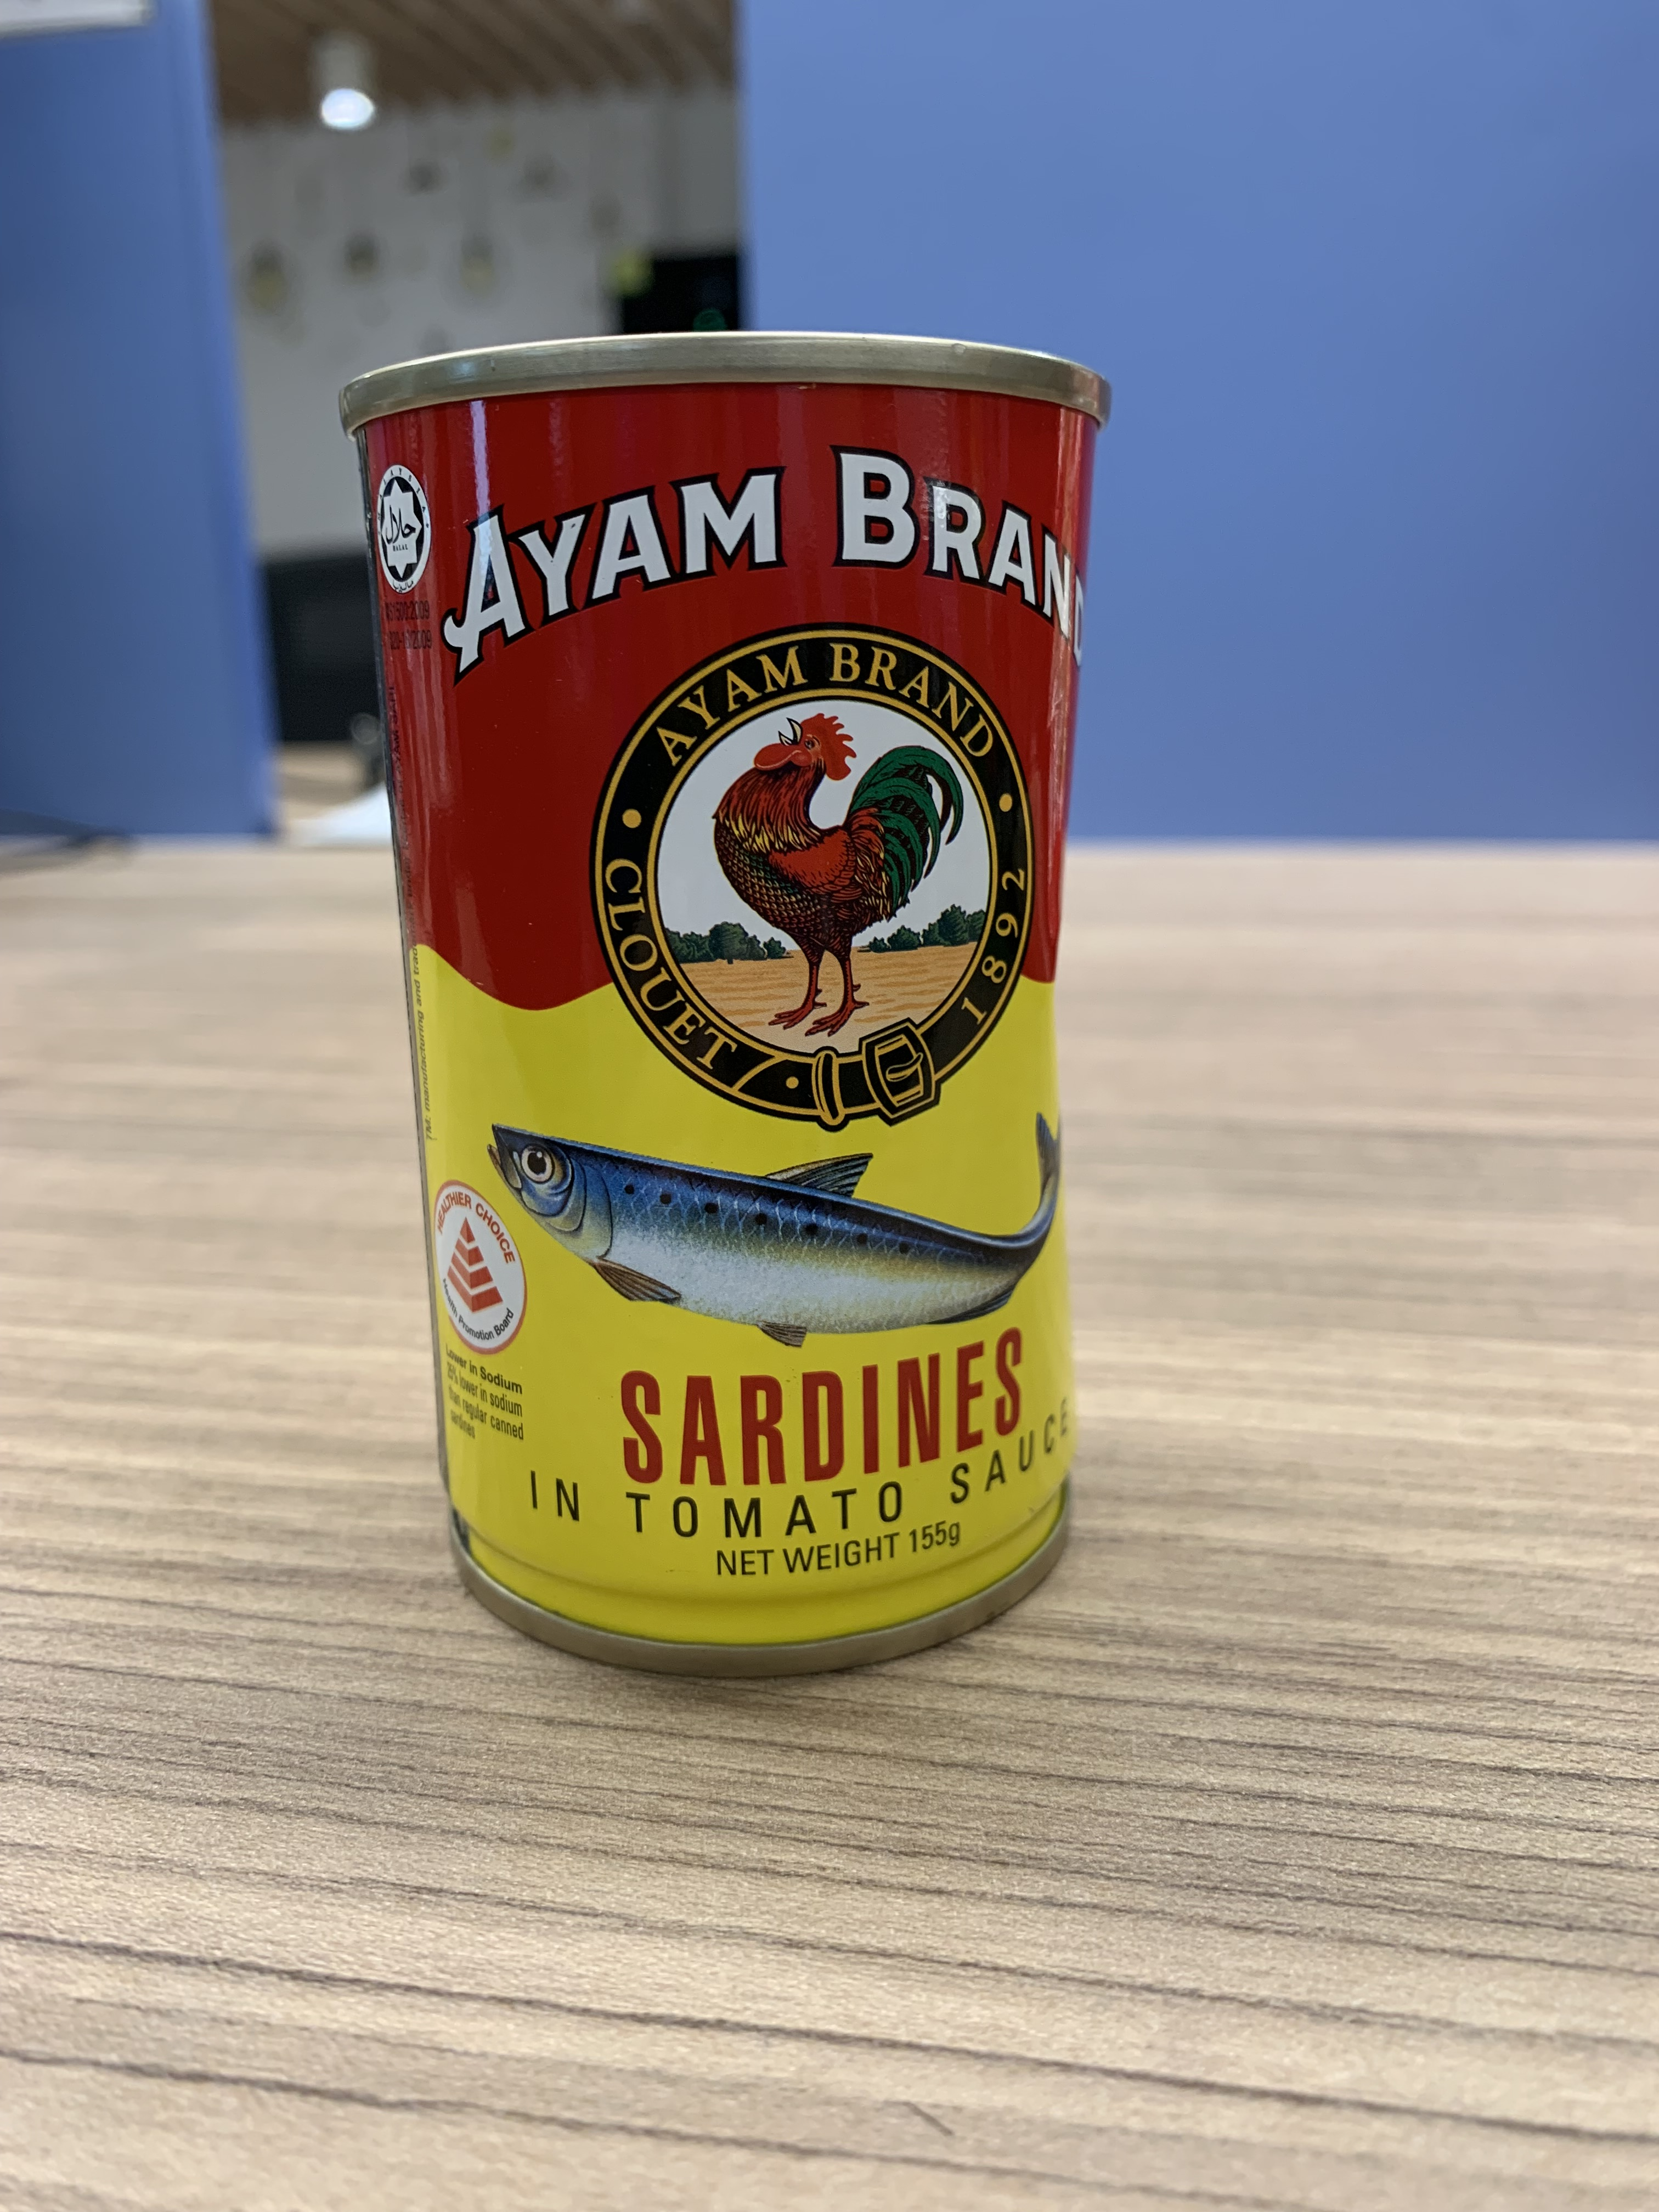sardines_100g-199g: (382, 427, 1075, 1616)
